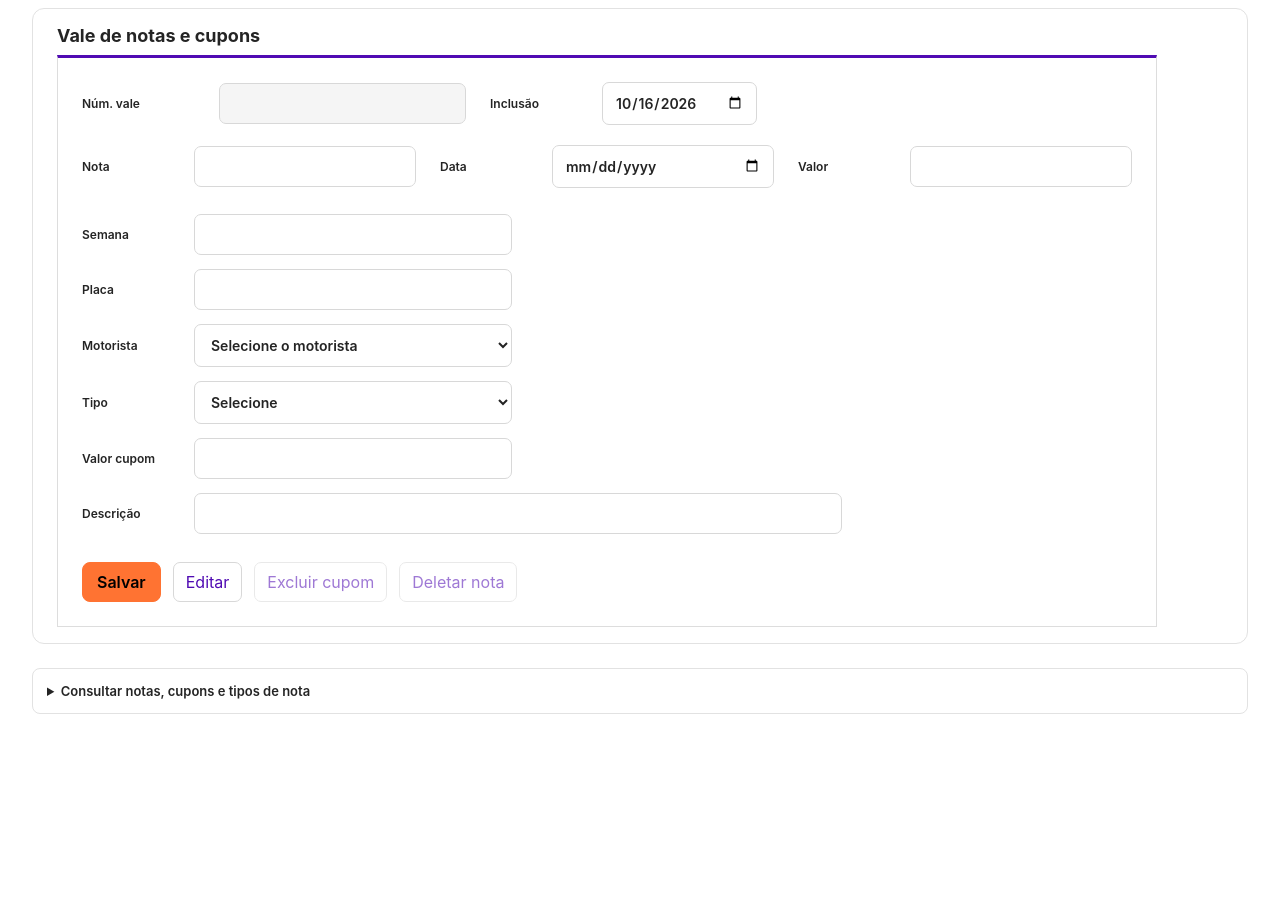
it: Editar habilita a busca e mantém dados após recusa do saldo
Expected: the button "Salvar" is enabled, [82, 562, 161, 602]
Click the button "Editar" at {"x": 208, "y": 582}, box [173, 562, 242, 602]
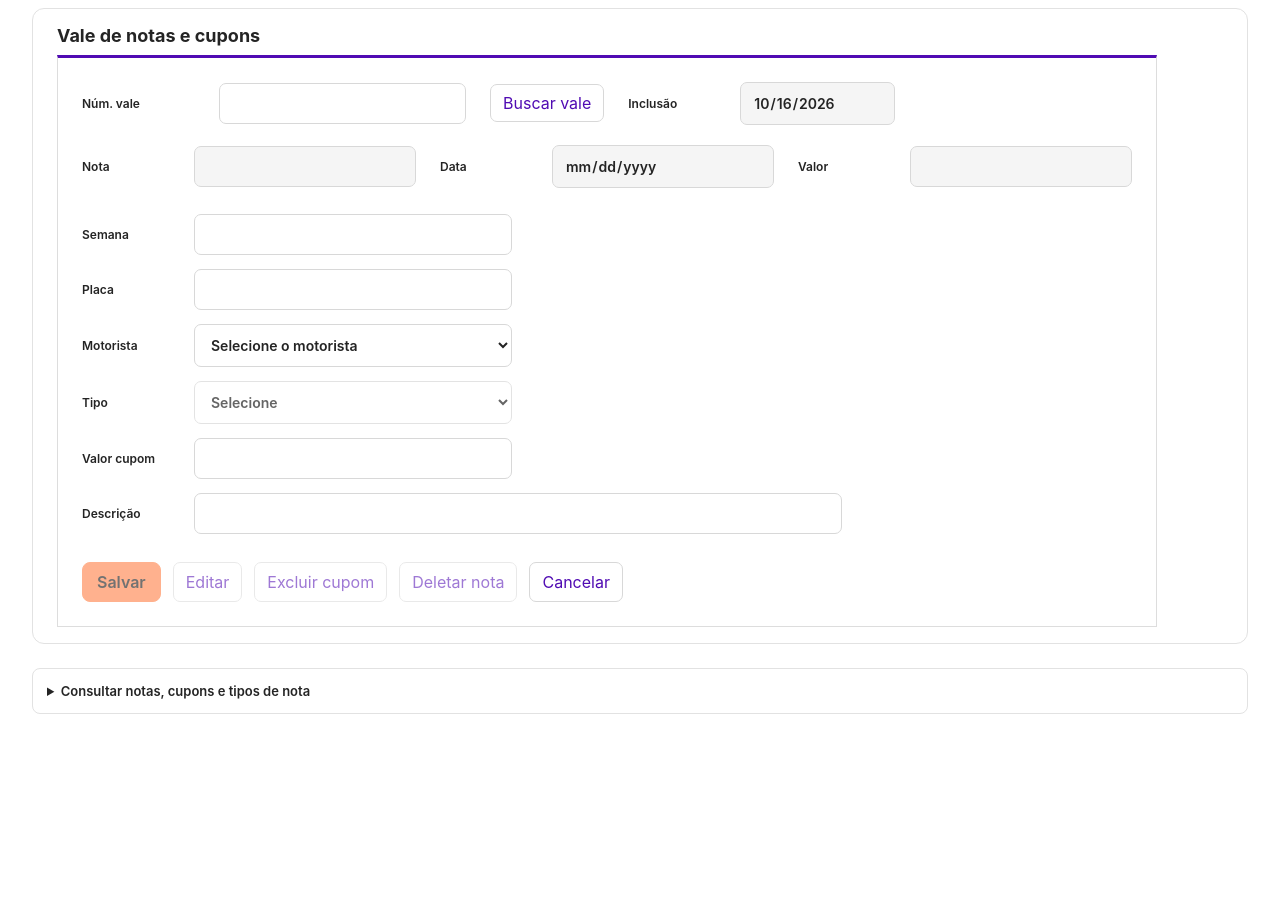
Type "3" into the field named "Número do vale" at {"x": 342, "y": 103}, box [219, 83, 466, 124]
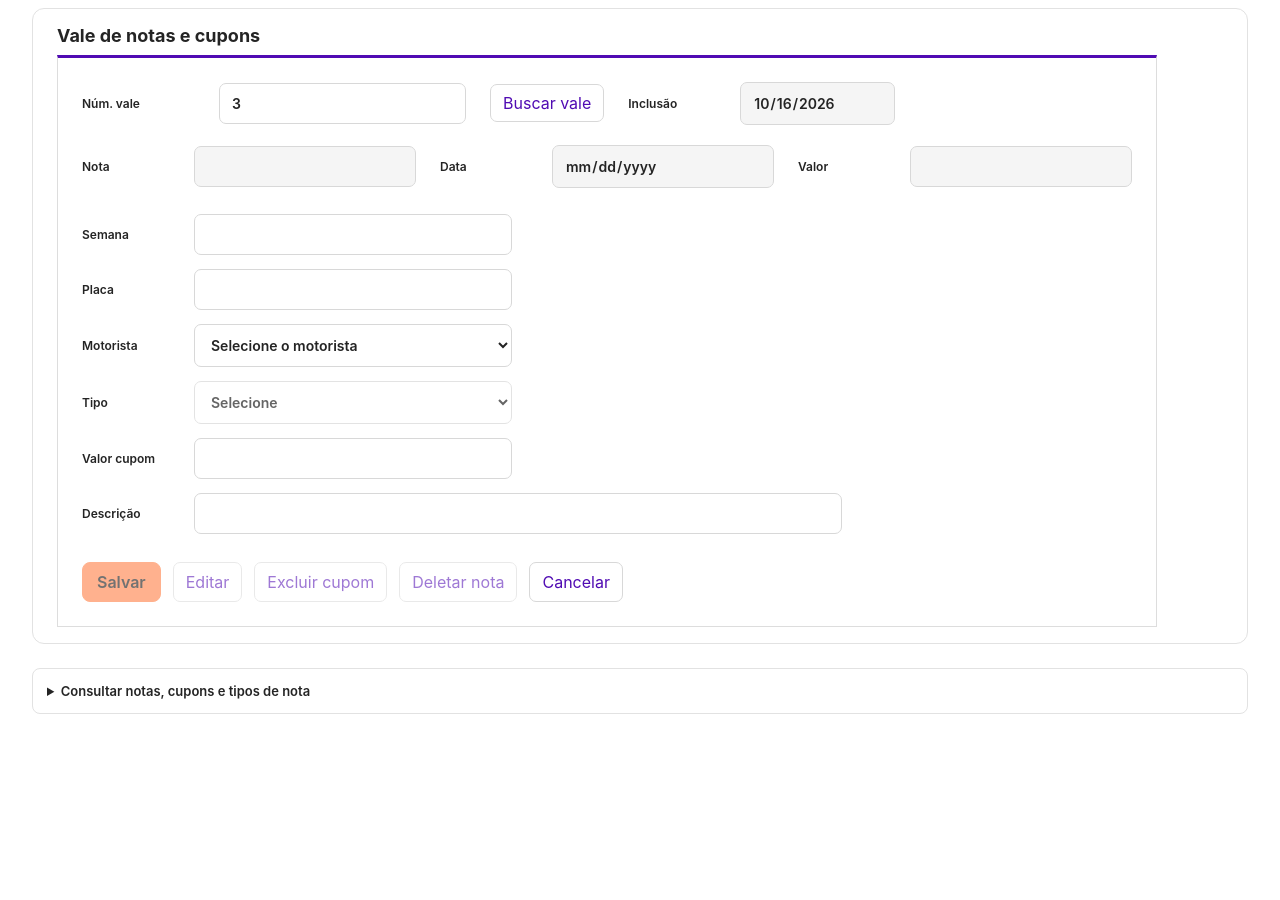
Click the button "Buscar vale" at {"x": 547, "y": 103}, box [490, 84, 604, 122]
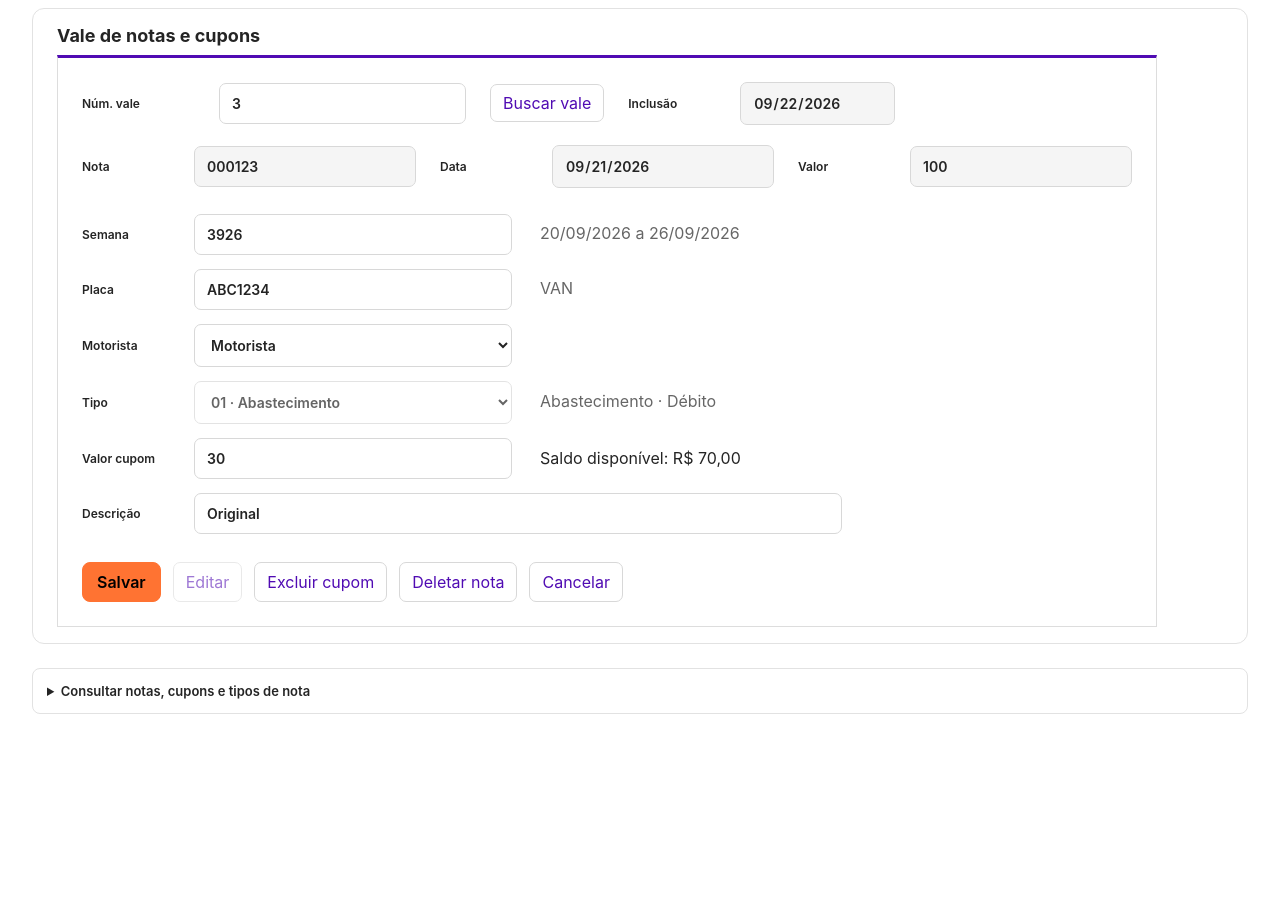
Result: the text "Saldo disponível: R$ 70,00" is shown at [540, 448, 741, 468]
Replace the text in the number field named "Valor do cupom" with "101" at {"x": 353, "y": 458}, box [194, 438, 512, 479]
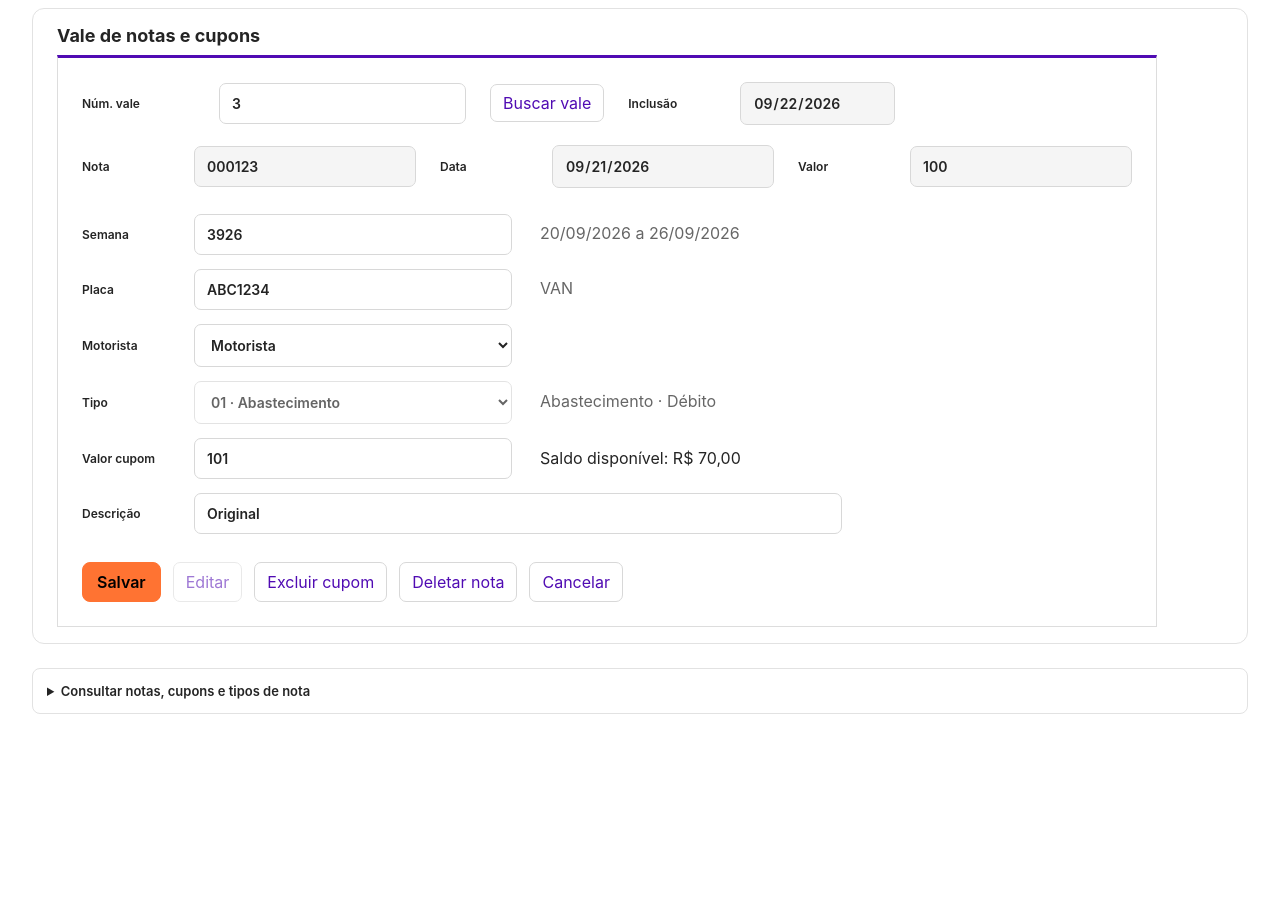
Click the button "Salvar" at {"x": 121, "y": 582}, box [82, 562, 161, 602]
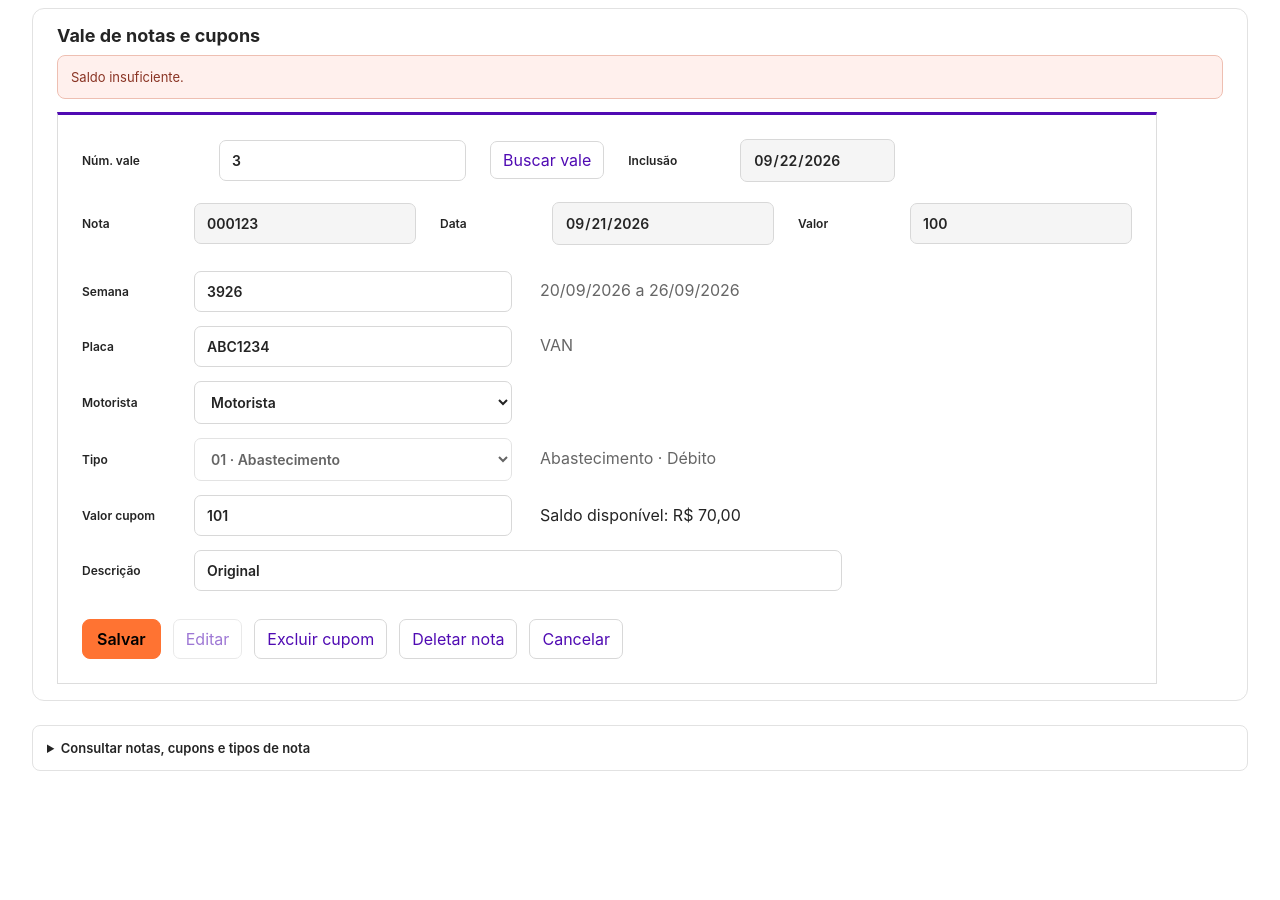
Result: the text "Saldo insuficiente." is shown at [57, 55, 1223, 99]
